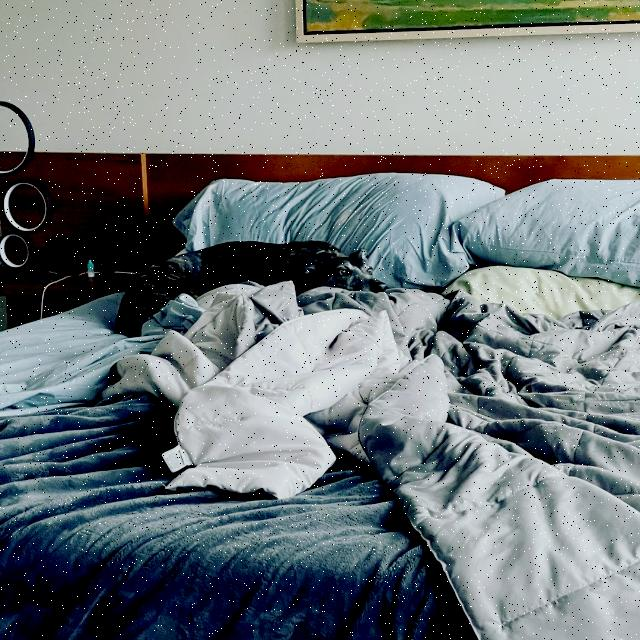bed: (3, 161, 632, 640)
